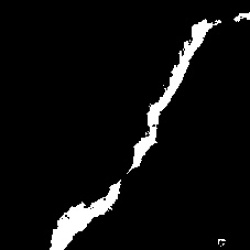crack: (48, 18, 223, 247), (234, 8, 247, 24)
pinhole: (213, 235, 229, 245)
